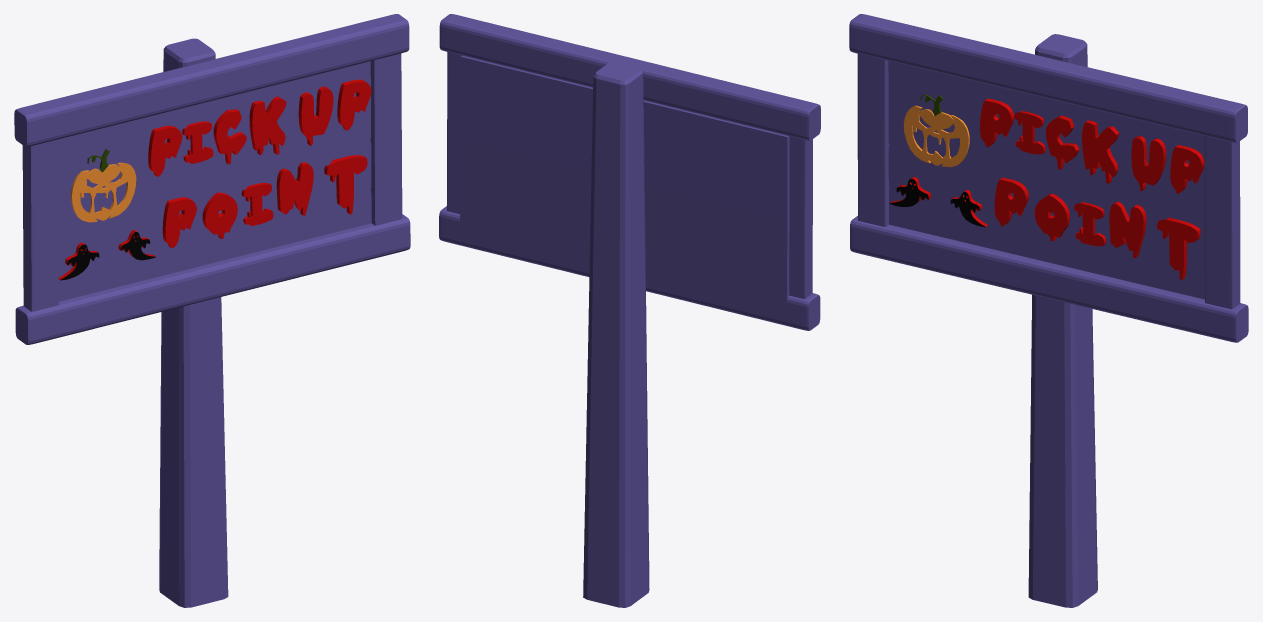
Rendered from pickup sign board.fbx.
The picture shows the model from 3 angles, left to right: view 1: azimuth 30°, elevation 25°; view 2: azimuth 150°, elevation 25°; view 3: azimuth 330°, elevation 25°; orthographic projection. The views are drawn at different scales.
Visible parts, largest first — view 1: Cube.002_wood_0.001; view 2: Cube.002_wood_0.001; view 3: Cube.002_wood_0.001.
Part boxes in pixels (x1,y1,x2,y2): Cube.002_wood_0.001: [14, 14, 410, 607]; Cube.002_wood_0.001: [439, 14, 820, 607]; Cube.002_wood_0.001: [849, 14, 1248, 607].
Bounding box in the file's own units: 272 × 368 × 45.85.
Materials: 2 (1 with a texture image).
